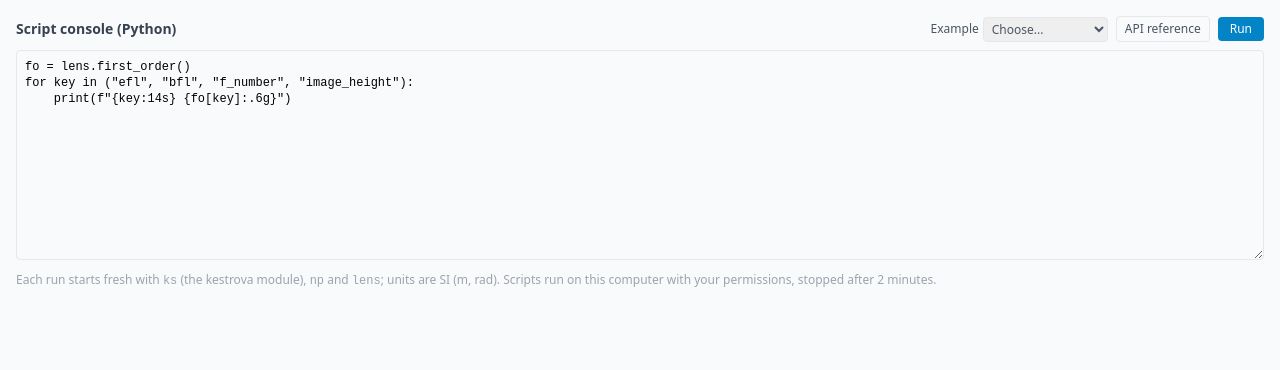
Test case: ScriptConsole › runs the script with the lens and sends the result back
This screenshot has width=1280, height=370.
Replace the text in the text box named "Script" with "print('efl', lens.efl)" at (640, 155), box [16, 50, 1264, 260]
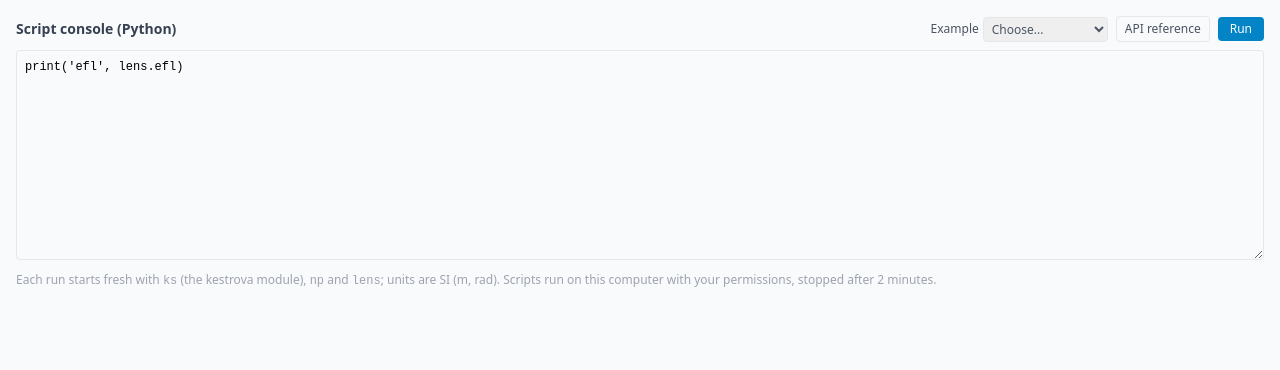
Click the button "Run" at (1241, 29), box [1218, 17, 1264, 41]
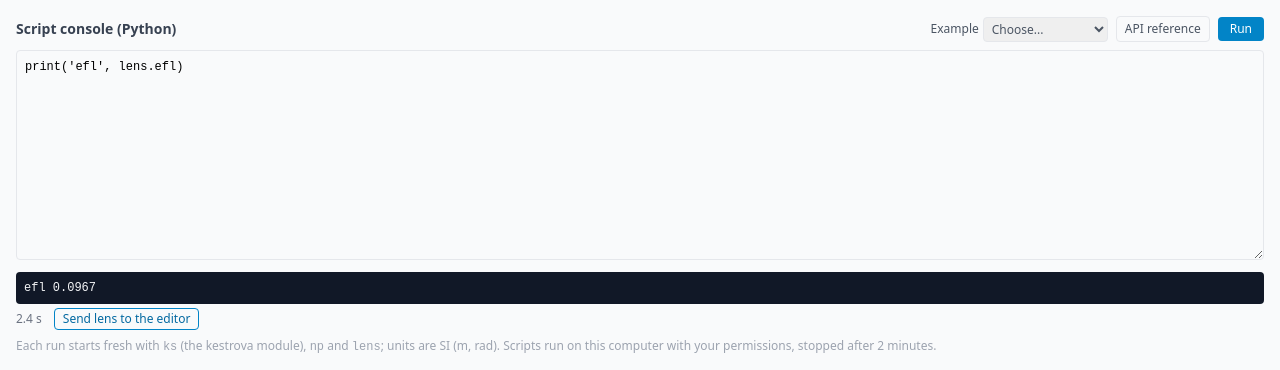
Check: the text "efl 0.0967" is shown, box [16, 272, 1264, 304]
Check: the text with test id "script-output" reads "efl 0.0967", box [24, 281, 96, 295]
Click the button "Send lens to the editor" at (127, 319), box [54, 308, 199, 330]
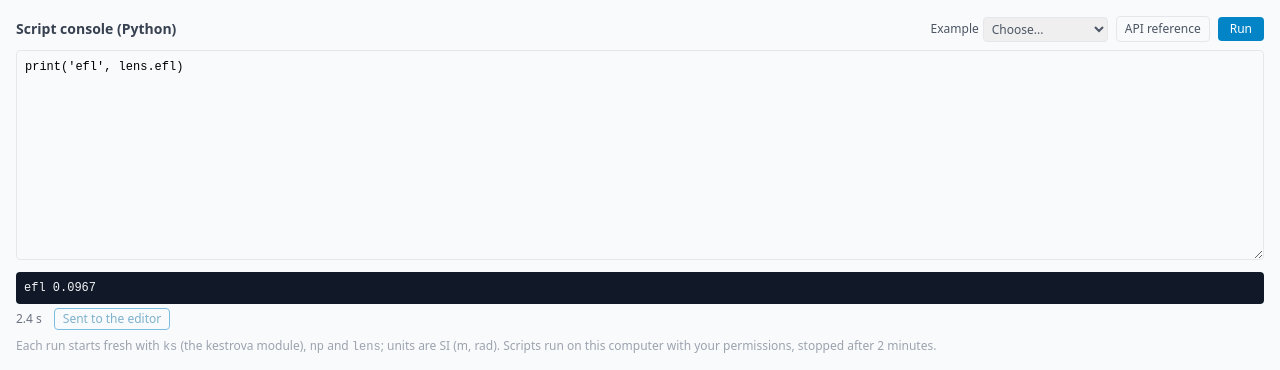
Check: the button "Sent to the editor" is shown, box [54, 308, 170, 330]
